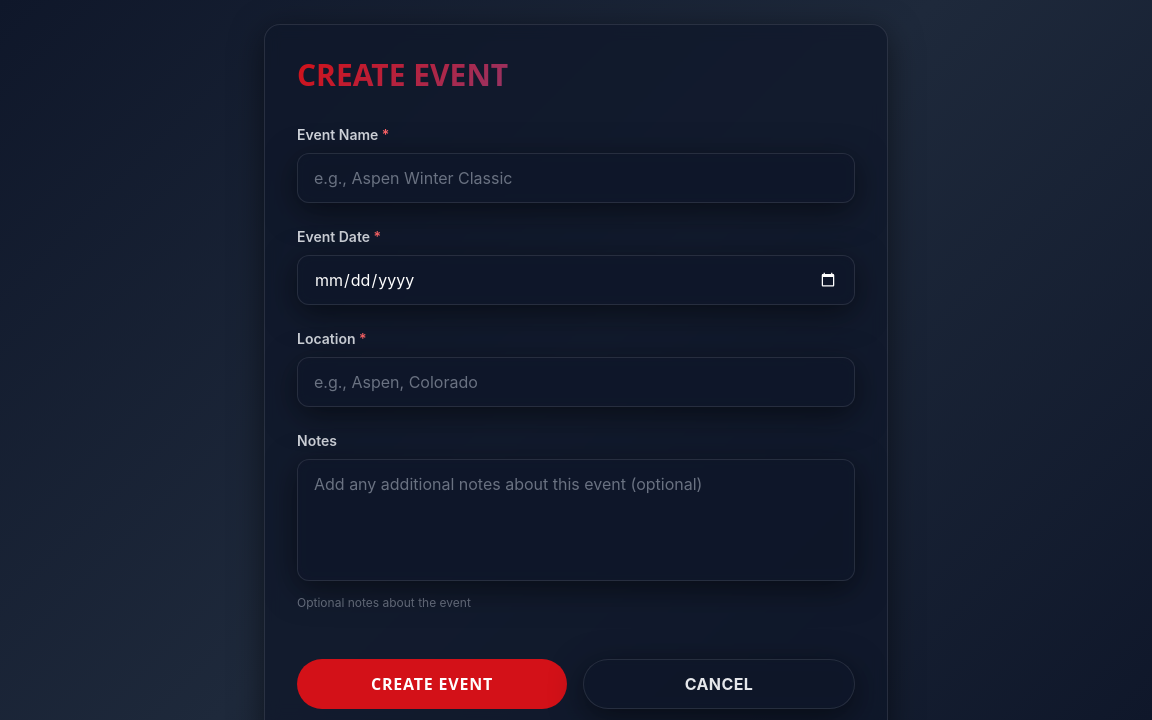
Test case: EventForm › Form Submission - Create Mode › should show loading state during submission
Fill in all fields
Type "Test Event" into the field labelled "Event Name *" at {"x": 576, "y": 178}, box [297,153,855,203]
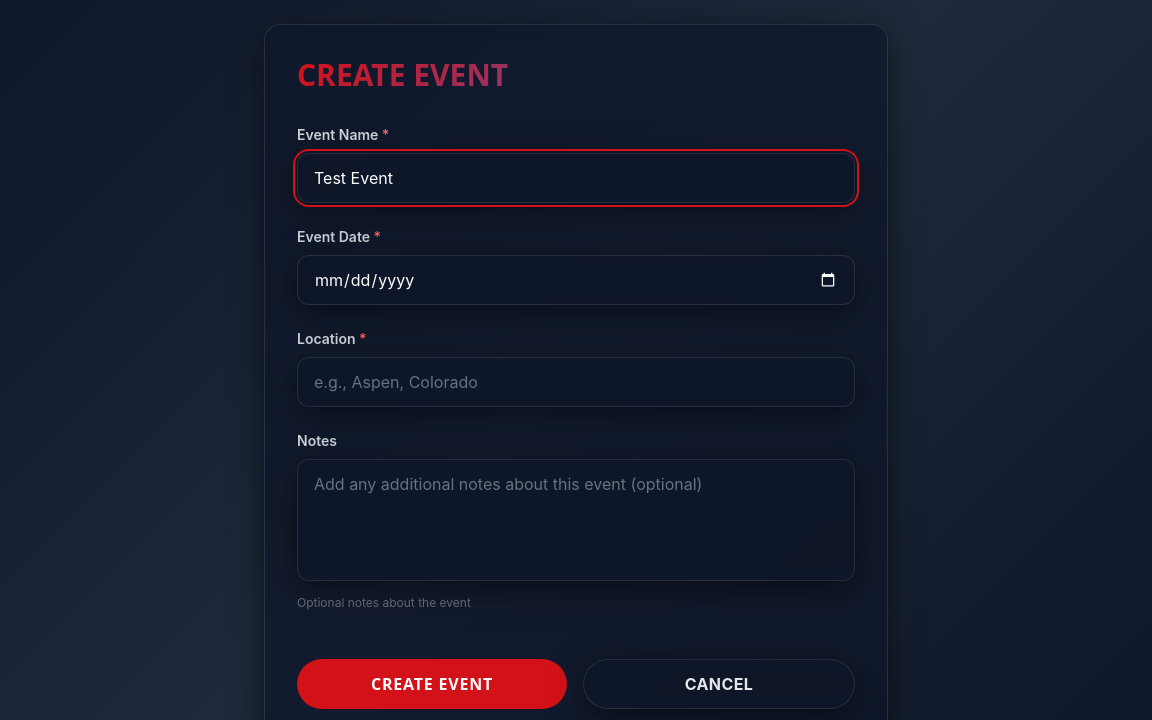
Type "2024-02-15" into the date field labelled "Event Date *" at {"x": 576, "y": 280}, box [297,255,855,305]
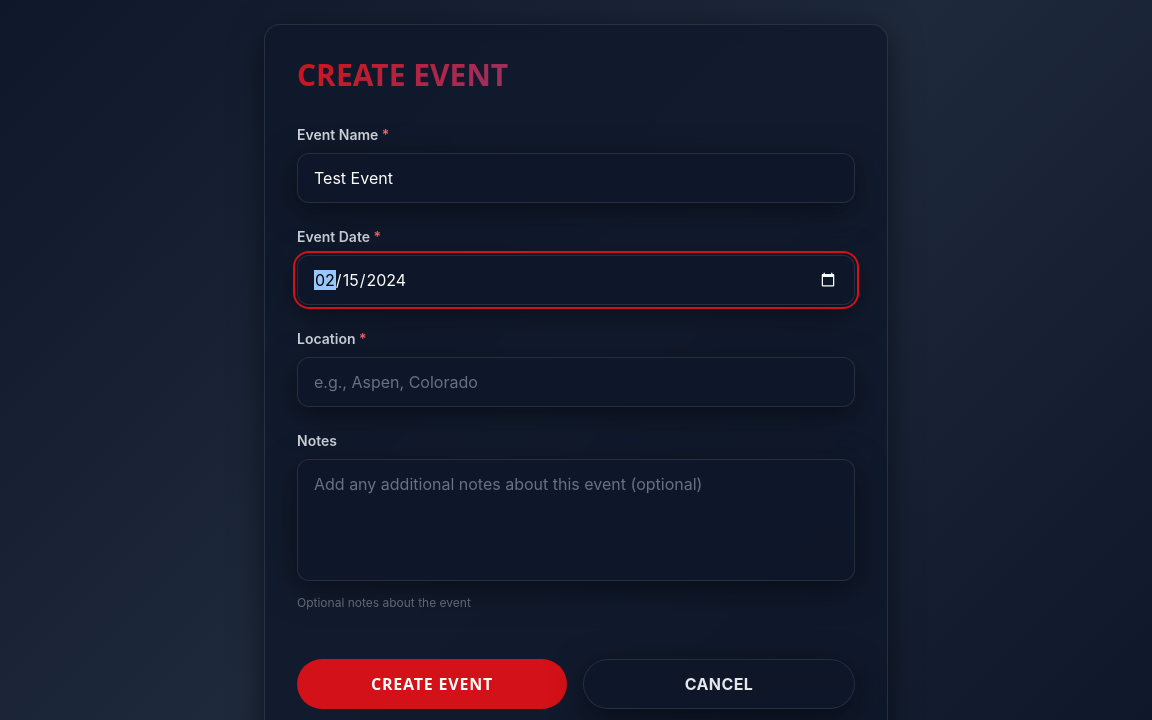
Type "Test Location" into the field labelled "Location *" at {"x": 576, "y": 382}, box [297,357,855,407]
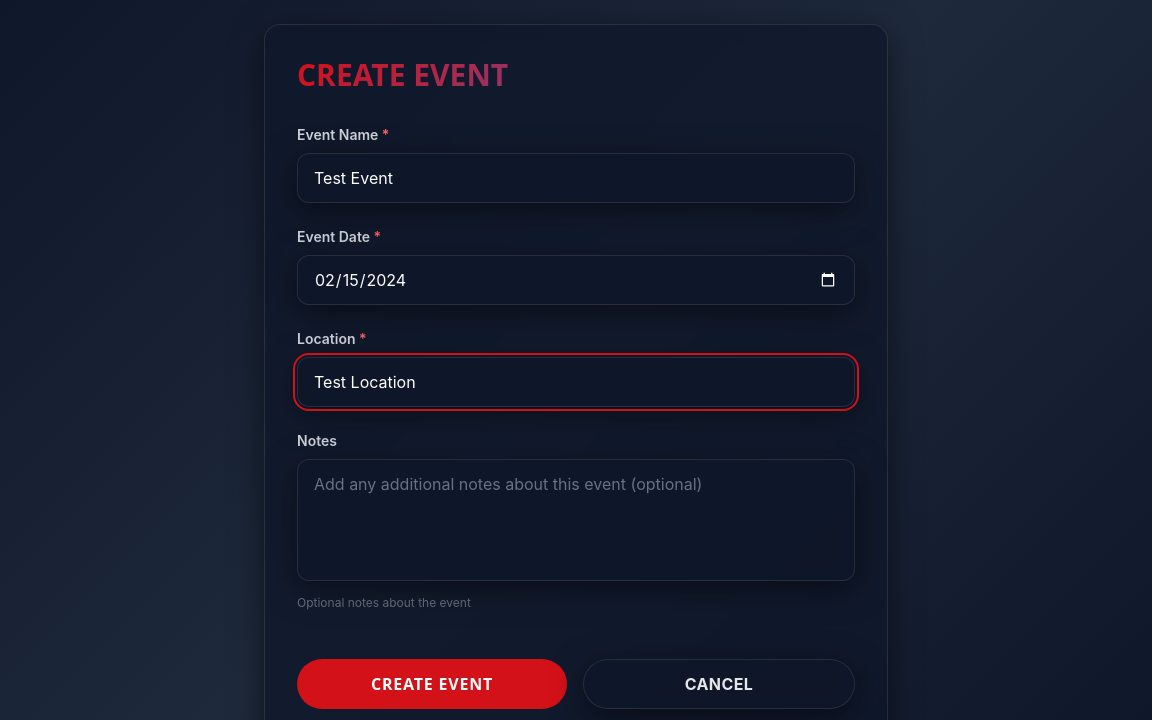
Submit form
Click the button "Create Event" at {"x": 432, "y": 684}, box [297,659,567,709]
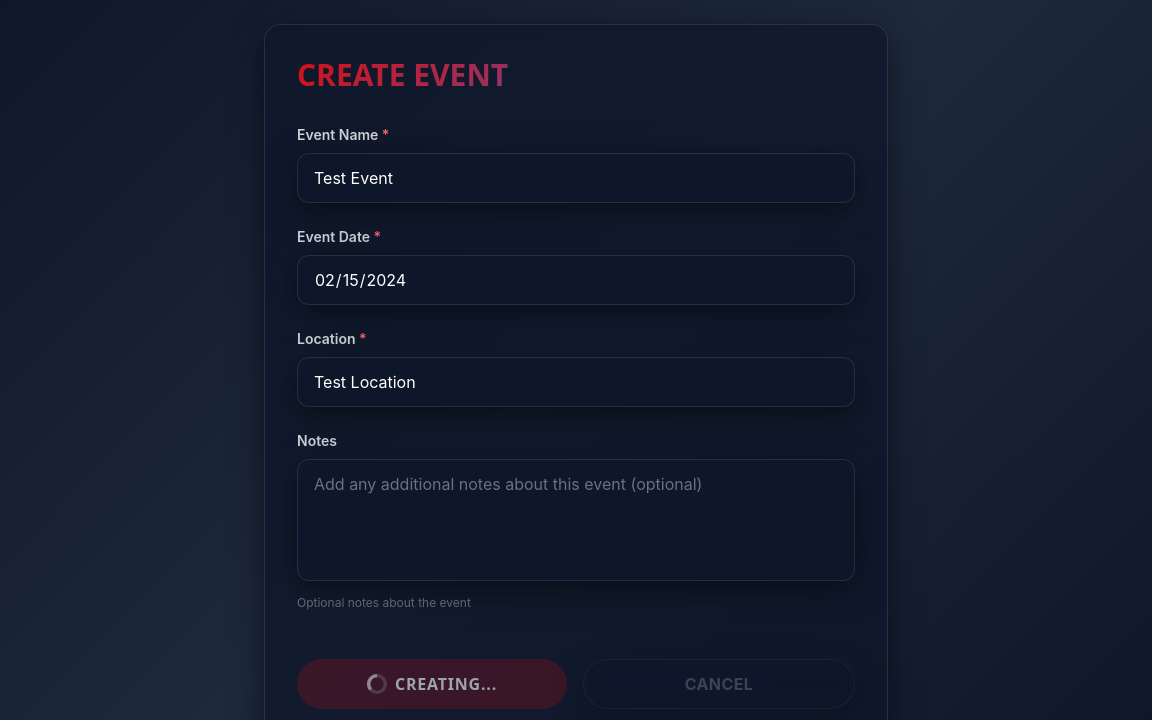
Expected: the text "Creating..." is shown, [367,673,497,695]
Expected: the button "Creating..." is disabled, [297,659,567,709]
